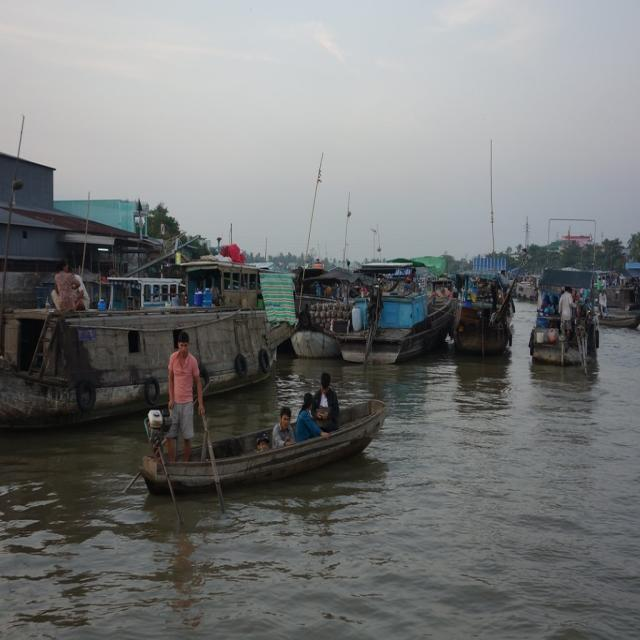boat: (142, 389, 412, 486), (520, 250, 600, 388), (434, 250, 514, 352)
